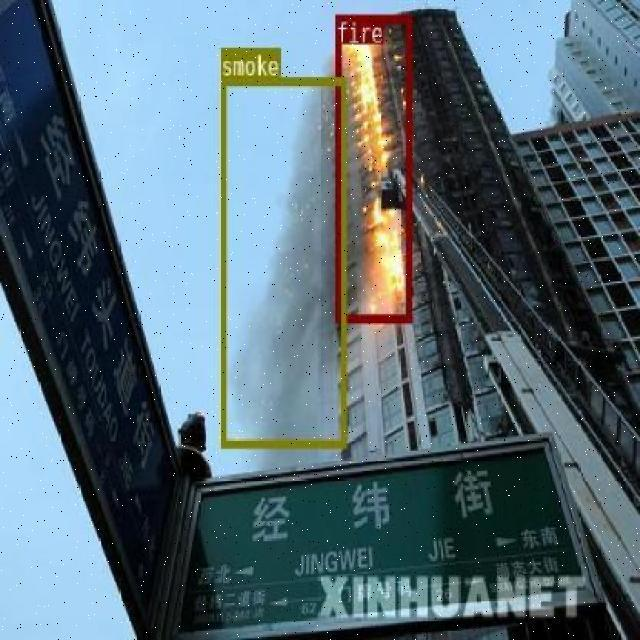Smoke: (219, 76, 344, 447)
